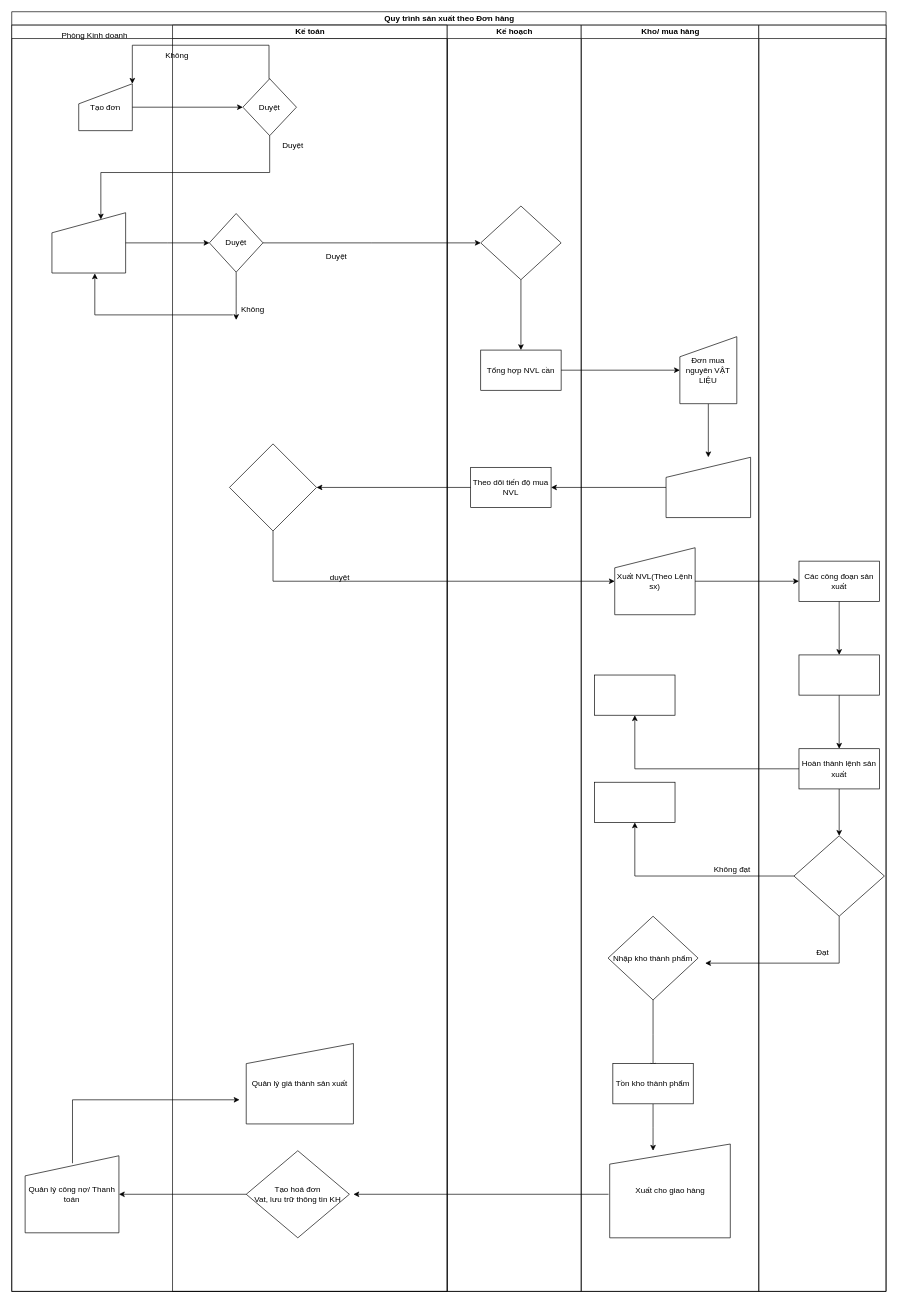
The diagram is 898 pixels wide and 1303 high, and some of its shapes have lost their labels. Here are the shapes that lost their labels. From the top down, the box of each, then its label:
(51, 212, 126, 273): Định mức nguyên vật liệu
(480, 205, 561, 280): Lệnh sản xuất
(229, 443, 317, 531): Duyệt lệnh SX
(665, 457, 751, 518): Phiếu nhập NVL
(758, 24, 886, 1291): Bộ phận sản xuất
(798, 654, 879, 695): Đang sơn, đang đánh bóng, đang xử lý...vvv
(594, 674, 675, 715): Kho phế phẩm
(594, 782, 675, 822): Kho sản phầm lỗi
(793, 835, 884, 916): Kiểm tra chất lượng
